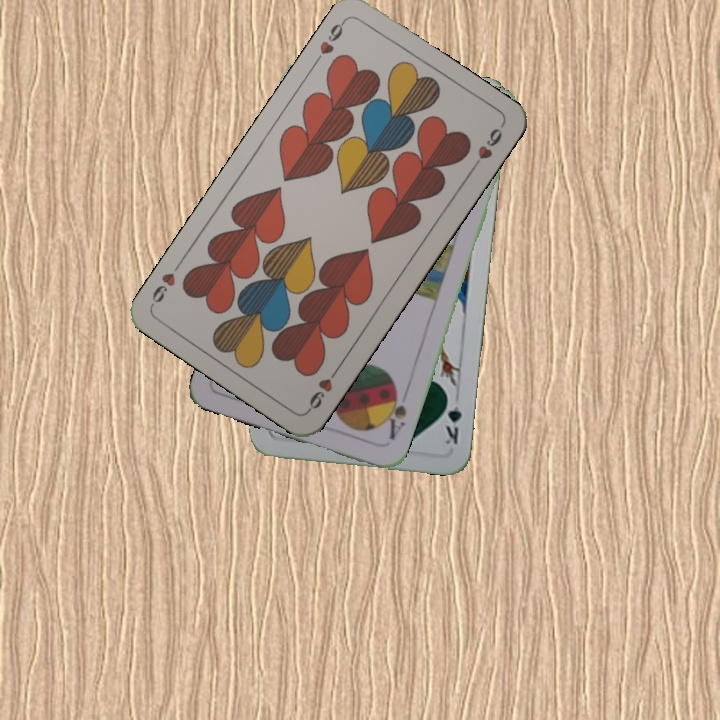GK: (439, 390, 464, 447)
H9: (310, 15, 349, 68), (304, 362, 343, 414)
SA: (380, 385, 410, 443)
